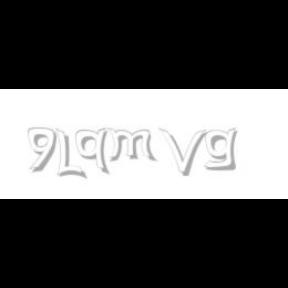9: (28, 128, 57, 172)
L: (56, 128, 84, 180)
V: (159, 128, 207, 176)
g: (204, 128, 242, 171)
m: (106, 128, 158, 162)
q: (75, 128, 111, 176)
